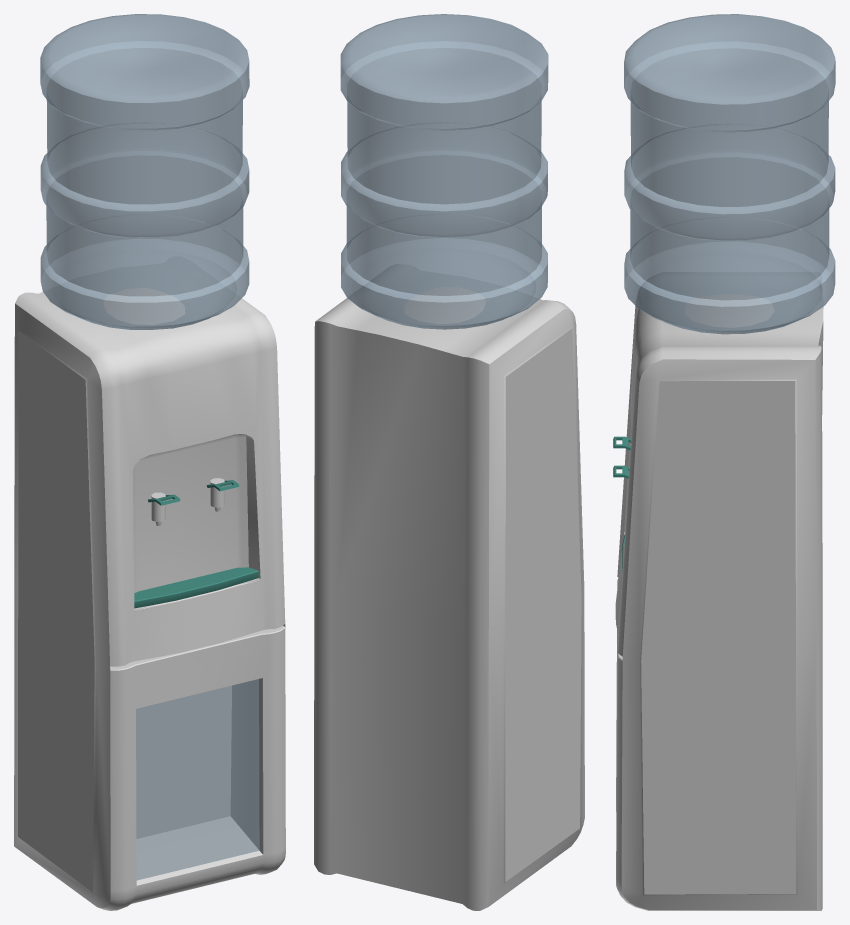
Rendered from waterf01.FBX.
3 renders of one model, left to right at view 1: azimuth 30°, elevation 25°; view 2: azimuth 150°, elevation 25°; view 3: azimuth 270°, elevation 25°, orthographic.
Visible parts, largest first — view 1: waterf01; view 2: waterf01; view 3: waterf01.
Boxes of the visible parts, x1,y1,x2,y2 form: waterf01: (14, 14, 285, 910); waterf01: (314, 14, 584, 910); waterf01: (613, 14, 835, 910).
Size of the model in its own units: 33.91 by 34.54 by 140.
